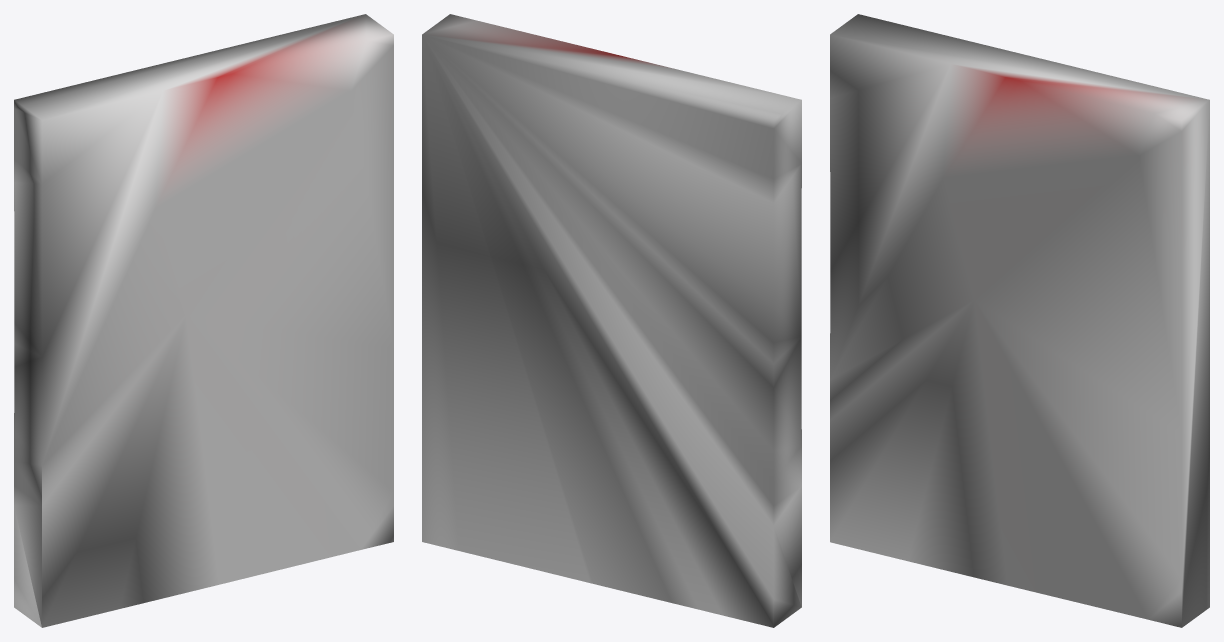
File: SM_FA_Factory_W145_H200.fbx
3 views of the same model, side by side, from view 1: azimuth 30°, elevation 25°; view 2: azimuth 150°, elevation 25°; view 3: azimuth 330°, elevation 25° (orthographic).
Visible parts, largest first — view 1: SM_FA_Factory_W145_H200; view 2: SM_FA_Factory_W145_H200; view 3: SM_FA_Factory_W145_H200.
Part boxes in pixels (x1,y1,x2,y2): SM_FA_Factory_W145_H200: [14, 14, 393, 627]; SM_FA_Factory_W145_H200: [422, 14, 801, 627]; SM_FA_Factory_W145_H200: [830, 14, 1209, 627].
Size of the model in its own units: 145 by 20 by 200.
